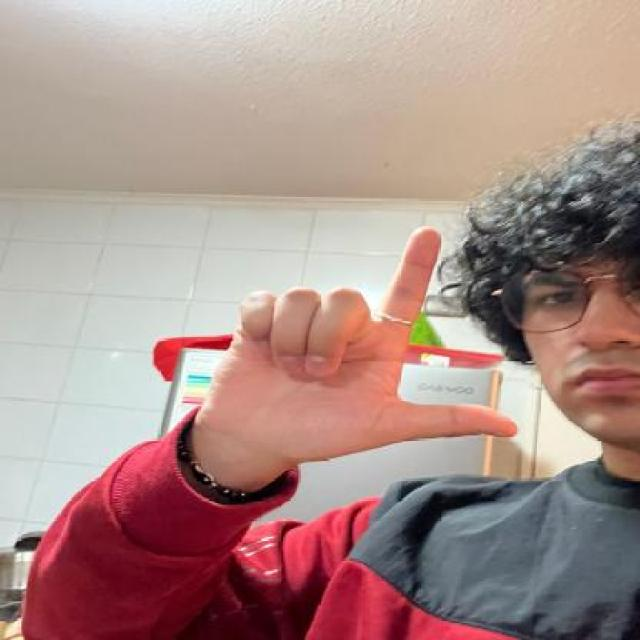L: (193, 218, 525, 450)
